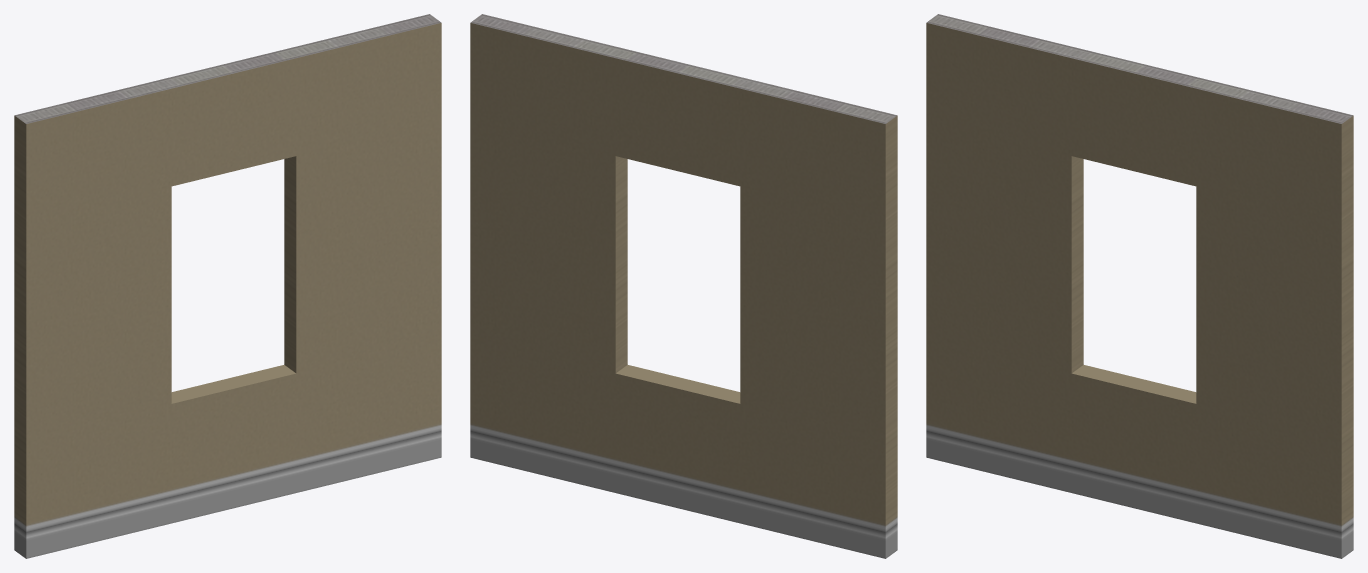
The model's file is wall1_4.fbx.
3 renders of one model, left to right at view 1: azimuth 30°, elevation 25°; view 2: azimuth 150°, elevation 25°; view 3: azimuth 330°, elevation 25°, orthographic.
Visible parts, largest first — view 1: wall1_yellow_d; view 2: wall1_yellow_d; view 3: wall1_yellow_d.
Part boxes in pixels (x1,y1,x2,y2): wall1_yellow_d: (14,14,441,558); wall1_yellow_d: (470,14,897,558); wall1_yellow_d: (926,14,1353,558).
Size of the model in its own units: 400 by 400 by 20.
